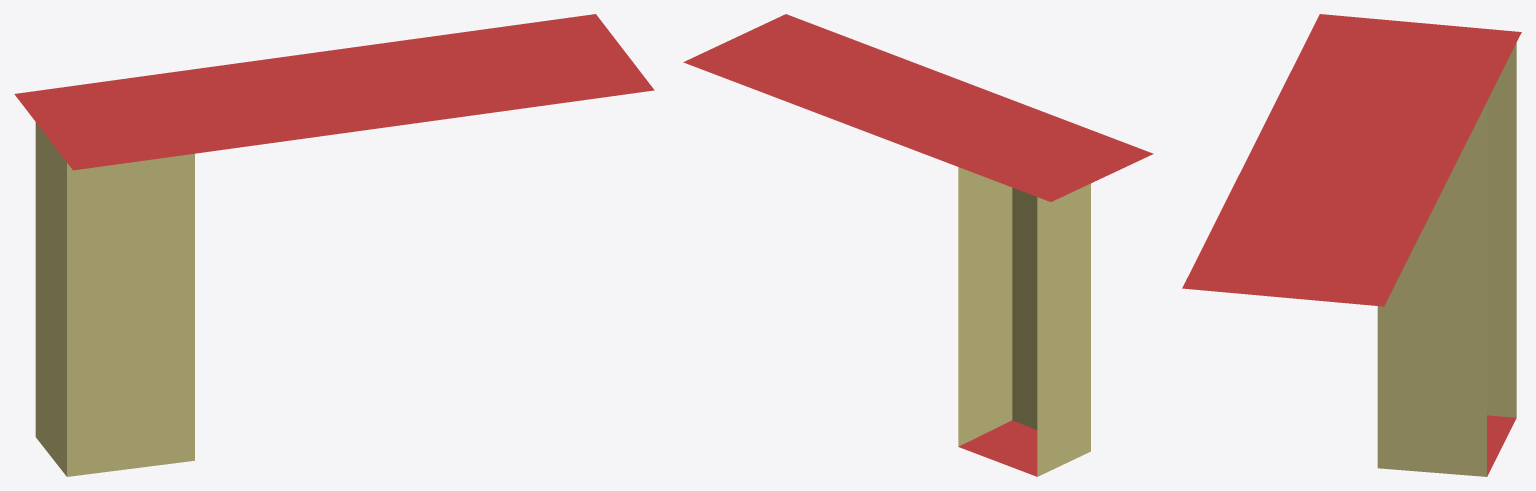
The picture shows the model from 3 angles, left to right: view 1: azimuth 30°, elevation 25°; view 2: azimuth 150°, elevation 25°; view 3: azimuth 270°, elevation 25°; orthographic projection. The views are drawn at different scales.
Bounding box in the file's own units: 16.47 × 8.08 × 9.86.
